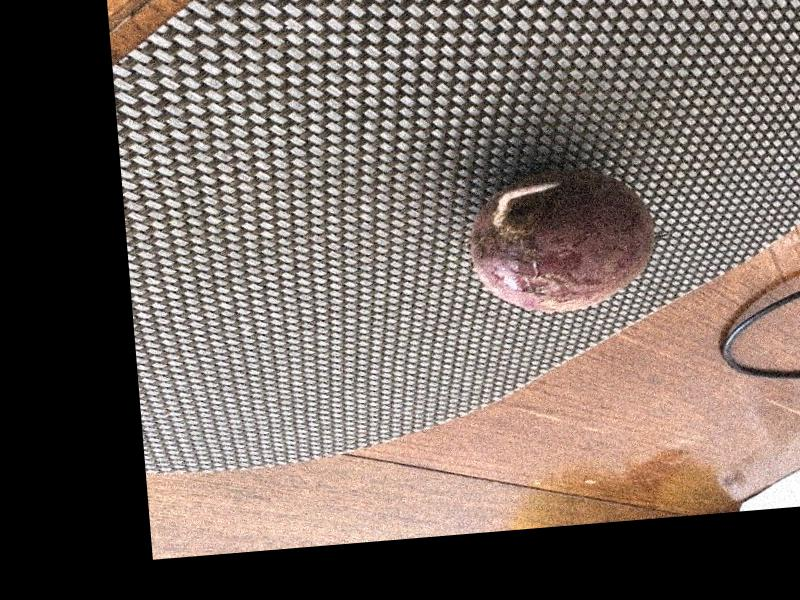Beet: (465, 163, 660, 318)
